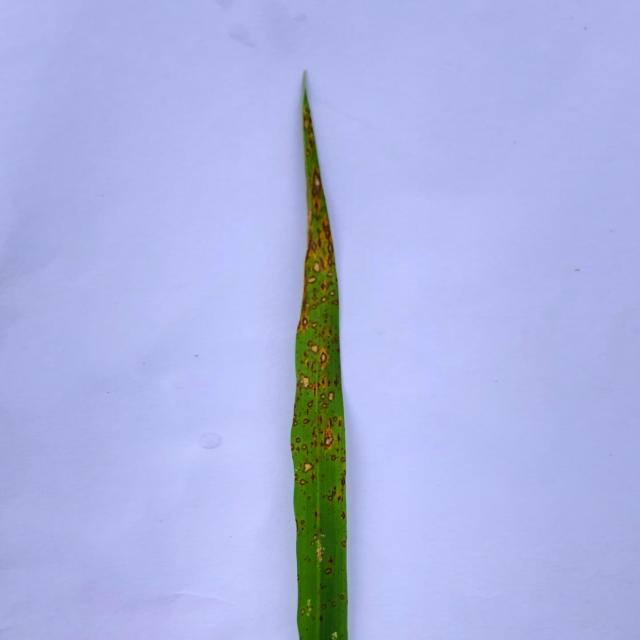leaf blast: (311, 167, 323, 197), (297, 372, 314, 391), (312, 260, 323, 276), (323, 434, 334, 449), (306, 127, 315, 145), (322, 225, 332, 241), (302, 462, 315, 474), (304, 115, 312, 131), (326, 390, 336, 402), (310, 343, 320, 354), (305, 276, 318, 284), (310, 240, 318, 253), (310, 320, 320, 330), (320, 350, 327, 364), (320, 280, 327, 294), (326, 255, 334, 267), (305, 399, 315, 408), (300, 316, 308, 327), (303, 301, 311, 312), (327, 242, 334, 254), (339, 510, 346, 521), (311, 292, 318, 303), (298, 478, 307, 486), (334, 375, 340, 387), (323, 568, 333, 575), (295, 519, 300, 533), (302, 418, 312, 425), (329, 454, 337, 462), (339, 456, 347, 464), (321, 402, 329, 410), (320, 296, 328, 304), (300, 607, 306, 617), (338, 594, 346, 601), (327, 494, 334, 502), (319, 393, 327, 400), (313, 533, 319, 542), (328, 290, 337, 296), (331, 600, 337, 608), (341, 540, 347, 548), (296, 436, 302, 444), (300, 444, 308, 450), (306, 149, 311, 158), (332, 415, 338, 422), (292, 420, 298, 427), (307, 340, 313, 347), (328, 270, 334, 277), (294, 473, 299, 481), (321, 604, 327, 610), (300, 519, 306, 525), (341, 478, 345, 487), (320, 473, 326, 479), (311, 304, 317, 310), (290, 444, 294, 452), (310, 541, 316, 546), (297, 574, 301, 581), (307, 495, 311, 501)
